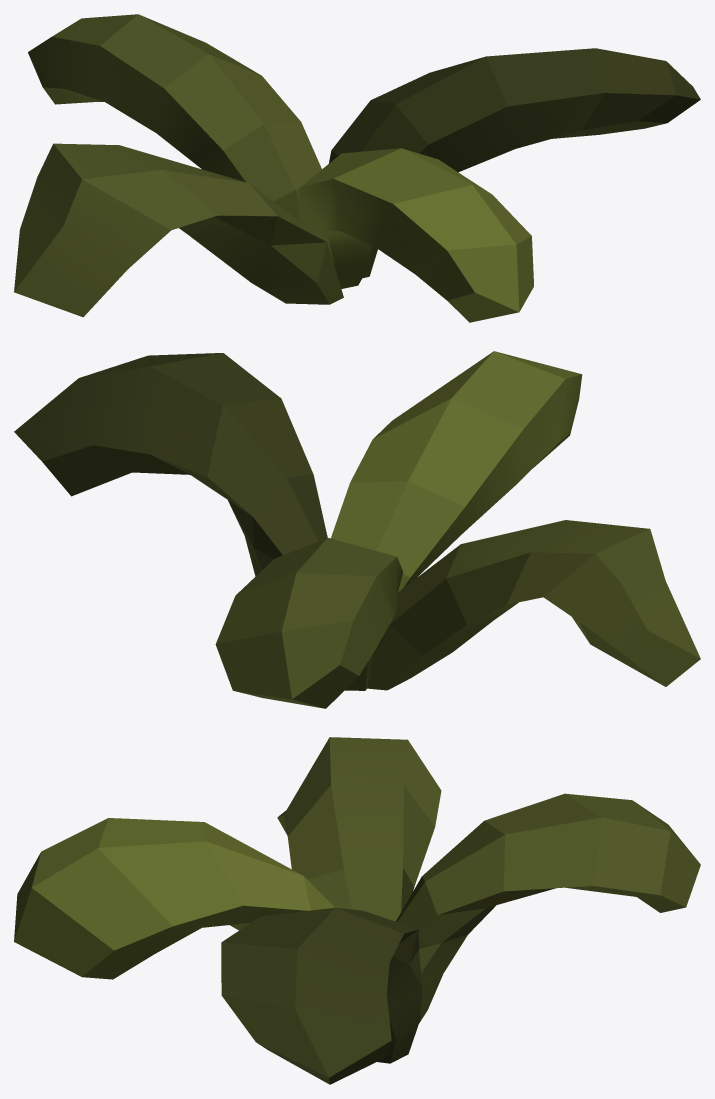
File: ea_swamp_leaf_01b_pre_18_lev1.glb
3 renders of one model, top to bottom at view 1: azimuth 30°, elevation 25°; view 2: azimuth 150°, elevation 25°; view 3: azimuth 270°, elevation 25°, orthographic. The views are drawn at different scales.
Visible parts, largest first — view 1: ea_swamp_leaf_01b_pre_18_lev1; view 2: ea_swamp_leaf_01b_pre_18_lev1; view 3: ea_swamp_leaf_01b_pre_18_lev1.
Part boxes in pixels (x1,y1,x2,y2): ea_swamp_leaf_01b_pre_18_lev1: [14, 14, 700, 322]; ea_swamp_leaf_01b_pre_18_lev1: [14, 351, 700, 708]; ea_swamp_leaf_01b_pre_18_lev1: [14, 737, 700, 1084].
Size of the model in its own units: 3.3 by 0.9853 by 3.05.
1 material, 1 textured.
